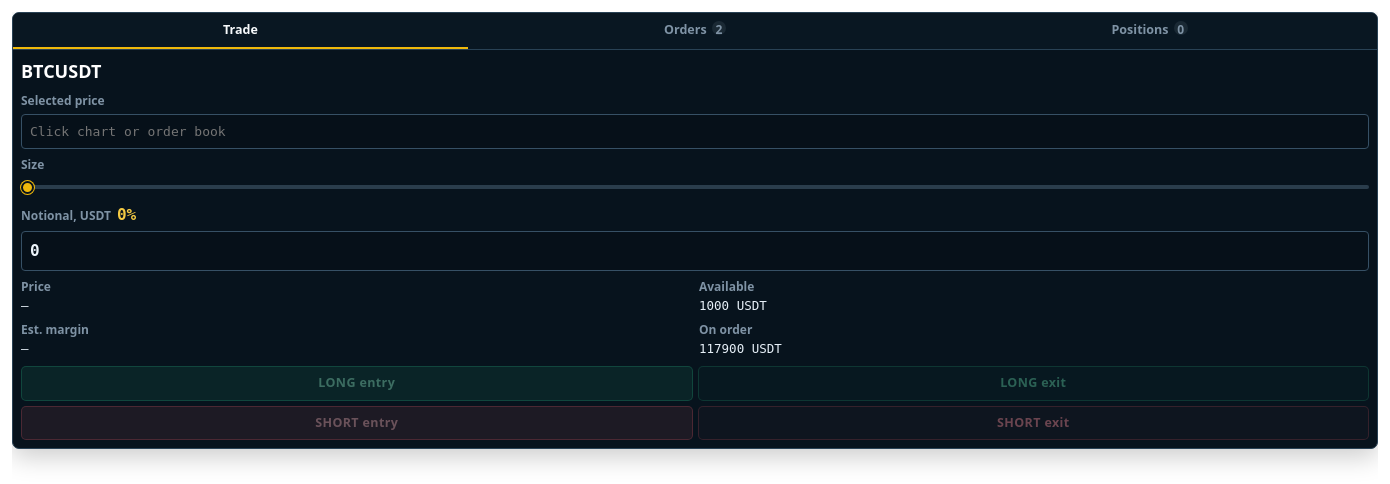
Scenario: FuturesTradingTicket › states an exit on the rail without a badge the row cannot hold
Click the tab "Orders 2".
click(695, 31)  # box 468,13 -> 922,49
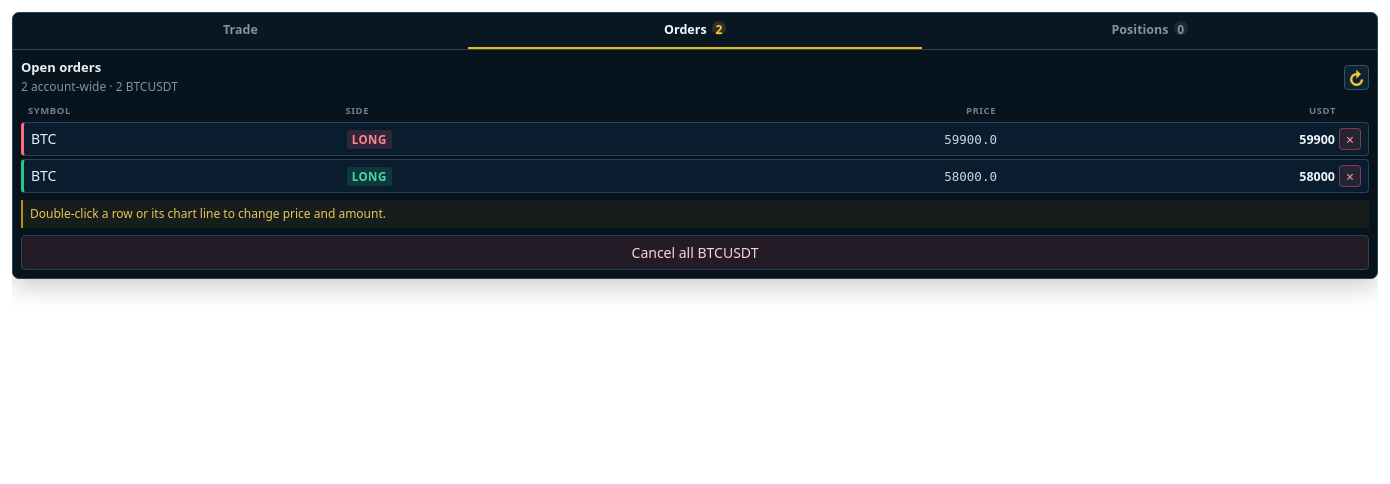
Expected: the cell "LONG" in the row of "59900.0" is shown, 352,132 -> 387,147
Expected: the cell "LONG" in the row of "59900.0" no longer shows "exit", 347,128 -> 392,149
